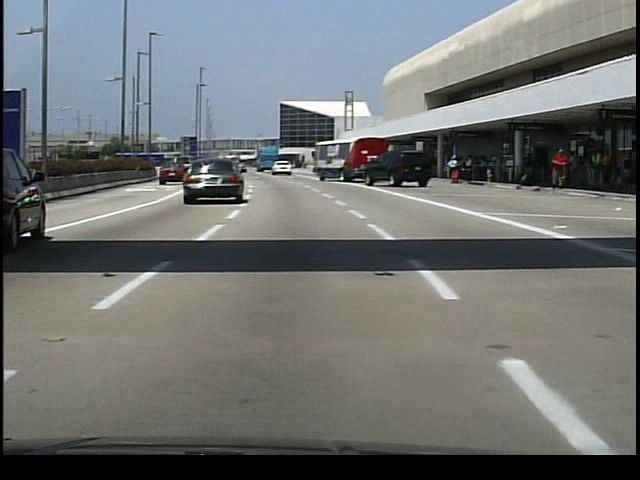person: (545, 145, 571, 191), (614, 153, 631, 190), (589, 148, 602, 189), (446, 156, 462, 187)
